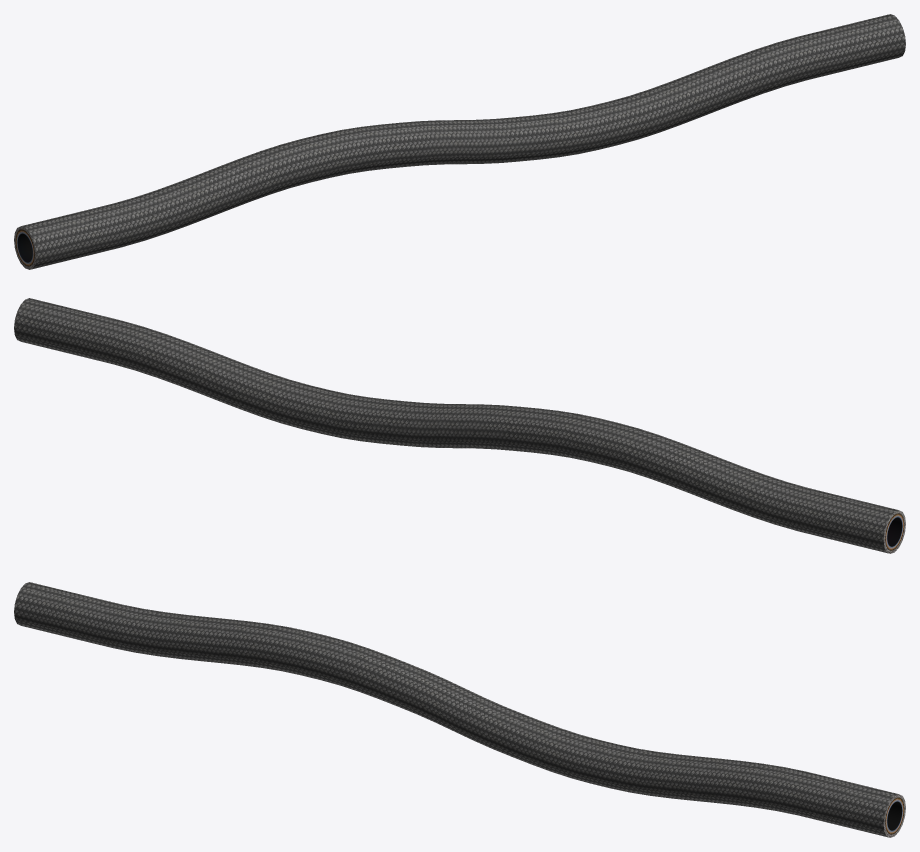
The model's file is Aramid_V1.glb.
3 views of the same model, one above another, from view 1: azimuth 30°, elevation 25°; view 2: azimuth 150°, elevation 25°; view 3: azimuth 330°, elevation 25° (orthographic).
Visible parts, largest first — view 1: Aramid_Braid.001; view 2: Aramid_Braid.001; view 3: Aramid_Braid.001.
Part boxes in pixels (x1=…): Aramid_Braid.001: x1=14, y1=14, x2=905, y2=269; Aramid_Braid.001: x1=14, y1=298, x2=905, y2=553; Aramid_Braid.001: x1=14, y1=582, x2=905, y2=837.
Bounding box in the file's own units: 0.3074 × 0.0264 × 0.0137.
2 materials, 2 textured.
